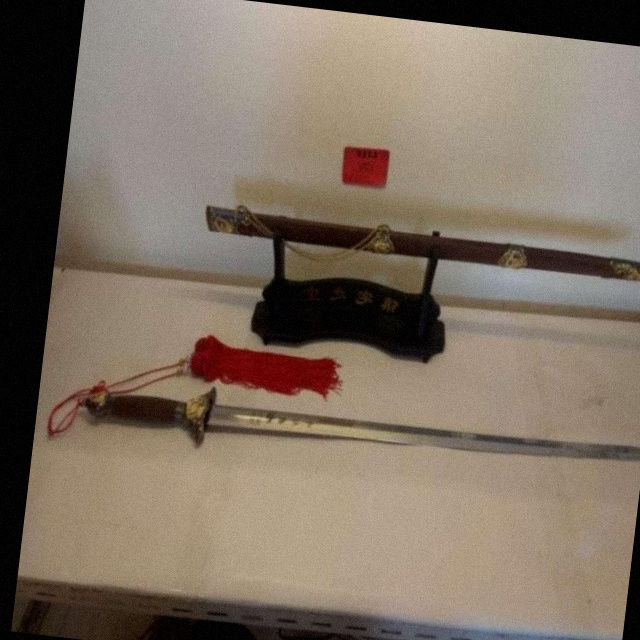Sharp-Object: (62, 365, 640, 506)
